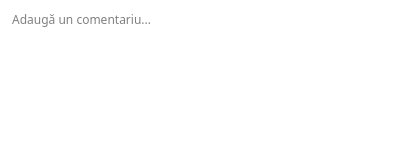
Scenario: CommentSection › enables submit when text is entered
The image size is (414, 160).
Click the button "Adaugă un comentariu..." at [82, 20], box [12,12,151,28]
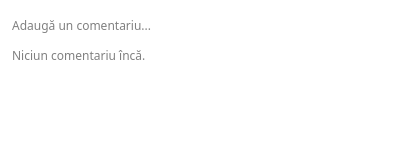
Click the button "Adaugă un comentariu..." at [82, 26], box [12,18,151,34]
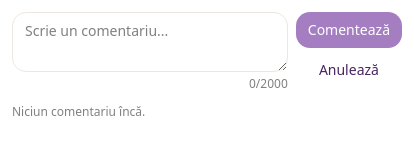
Type "Test" into the text box with placeholder "Scrie un comentariu..." at [150, 42], box [12,12,288,72]
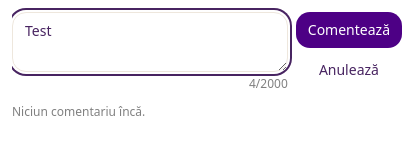
expect the button "Comentează" is enabled: met, box [296,12,402,48]
